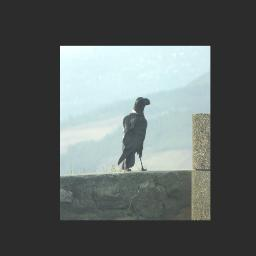Crow: (117, 96, 151, 172)
